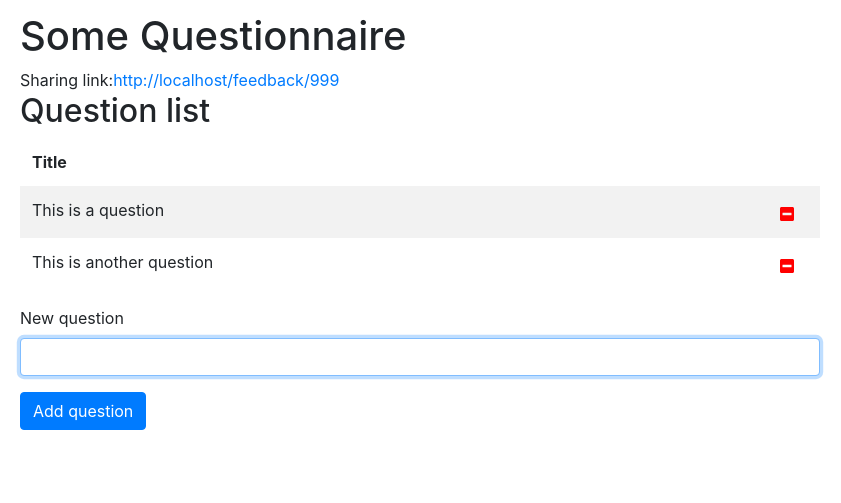
Scenario: Adding questions to the list › Adds questions to the question list
The image size is (841, 503).
Expected: the heading "Some Questionnaire" is shown, [20,11,406,60]
Type "Some new question" into the field with test id "new-question-text-box" at (420, 357), box [20,338,820,376]
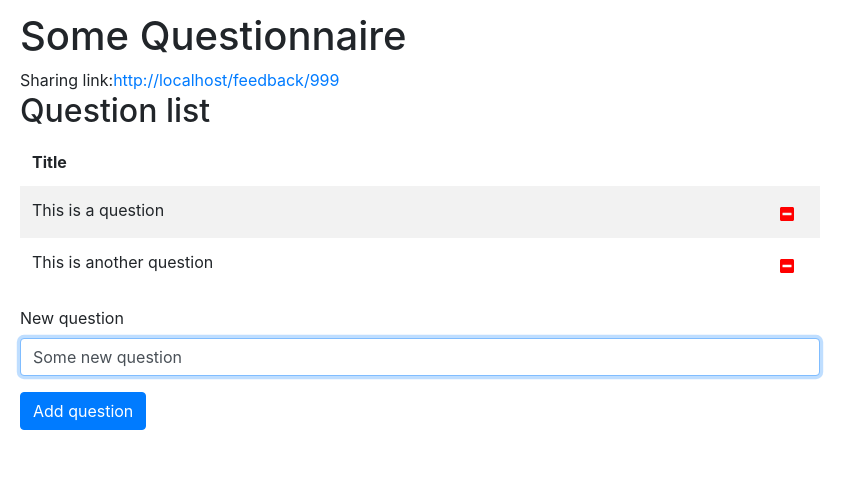
Click the button with test id "submit-button" at (83, 411), box [20,392,146,430]
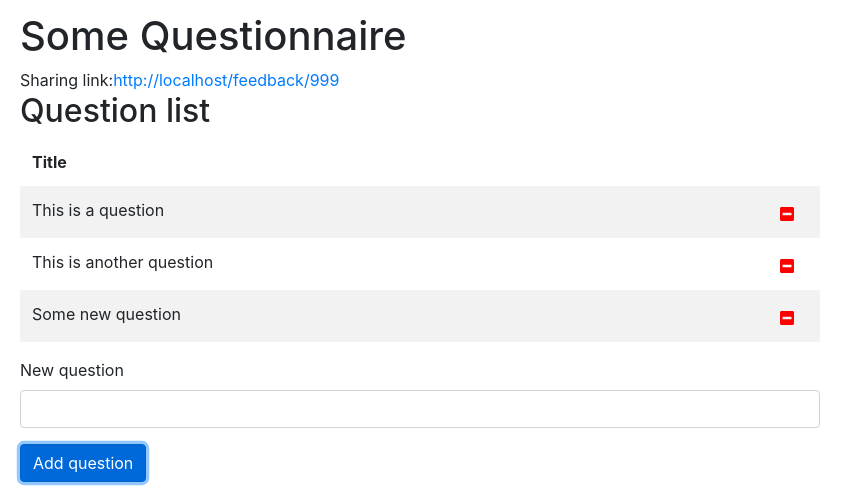
Expected: the text "Some new question" is shown, [20,290,625,342]
Expected: the row with test id "question" reads "Some new question", [32,304,181,324]
